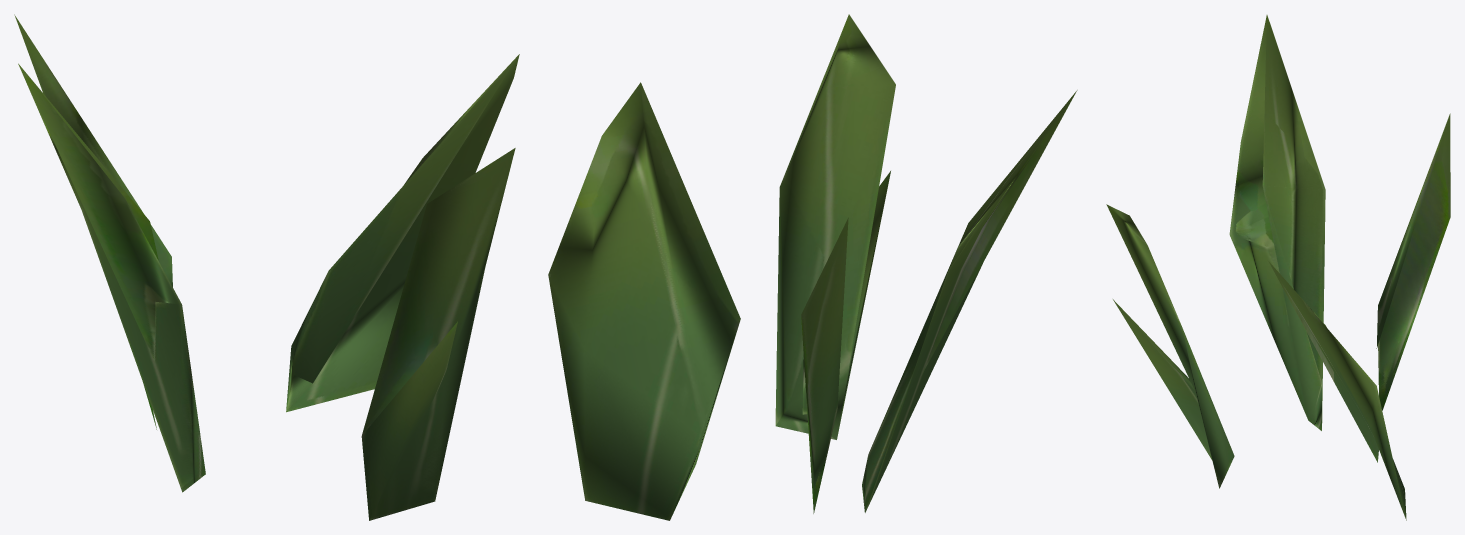
File: Chix_Grass.fbx
The picture shows the model from 3 angles, left to right: view 1: azimuth 30°, elevation 25°; view 2: azimuth 150°, elevation 25°; view 3: azimuth 270°, elevation 25°; orthographic projection. The views are drawn at different scales.
Parts seen in each view (by area): view 1: tripo_node_65fab4d3; view 2: tripo_node_65fab4d3; view 3: tripo_node_65fab4d3.
Part boxes in pixels (x1,y1,x2,y2): tripo_node_65fab4d3: [14, 14, 519, 520]; tripo_node_65fab4d3: [548, 14, 1077, 520]; tripo_node_65fab4d3: [1106, 15, 1450, 520].
Bounding box in the file's own units: 0.3676 × 0.3404 × 0.302.
1 material, 1 textured.
